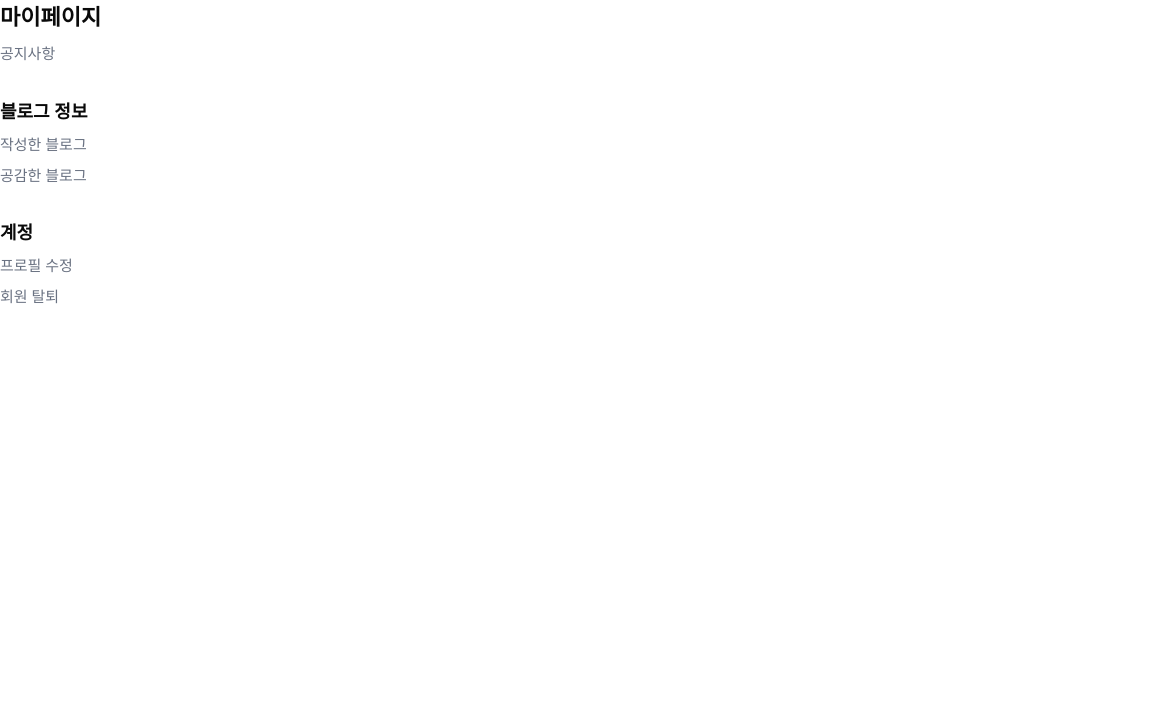
Test: 마이페이지 사이드바 › 회원탈퇴 모달 open 상태 › 모달 X 아이콘을 클릭하면 모달이 닫힌다.
Click the list item "회원 탈퇴" at coordinates (30, 296), box [0,286,59,306]
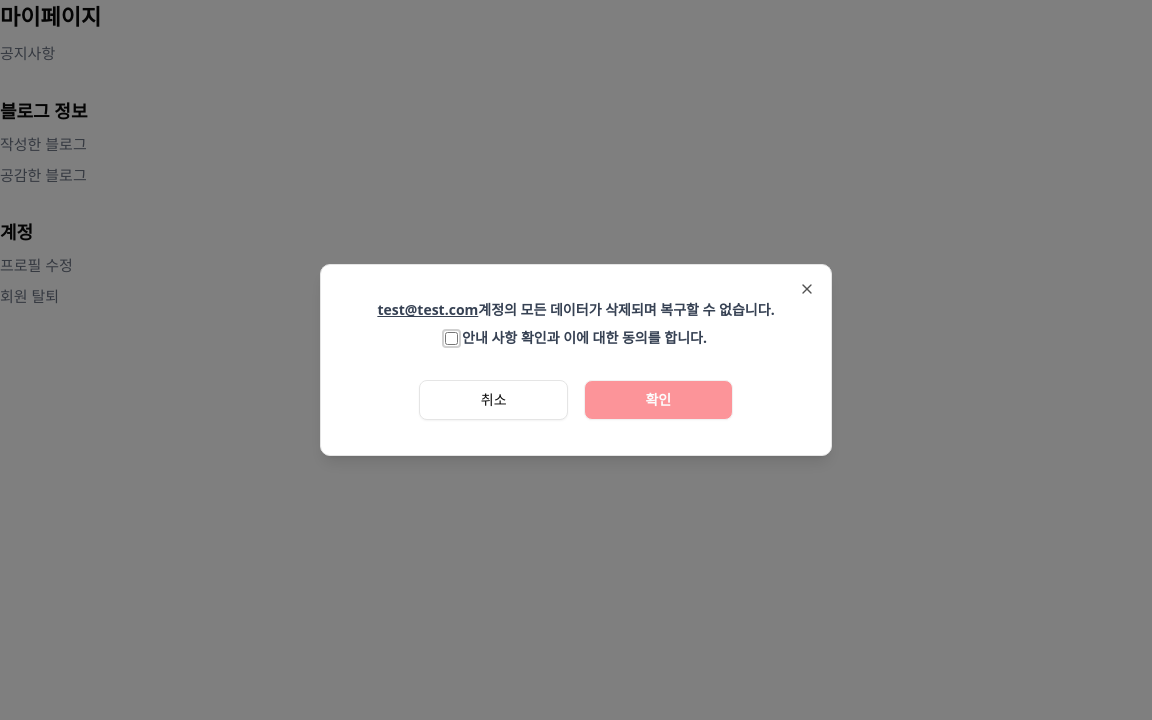
expect the button with test id "modal-close" is shown: met
Click the button with test id "modal-close" at coordinates (807, 289), box [799,281,815,297]
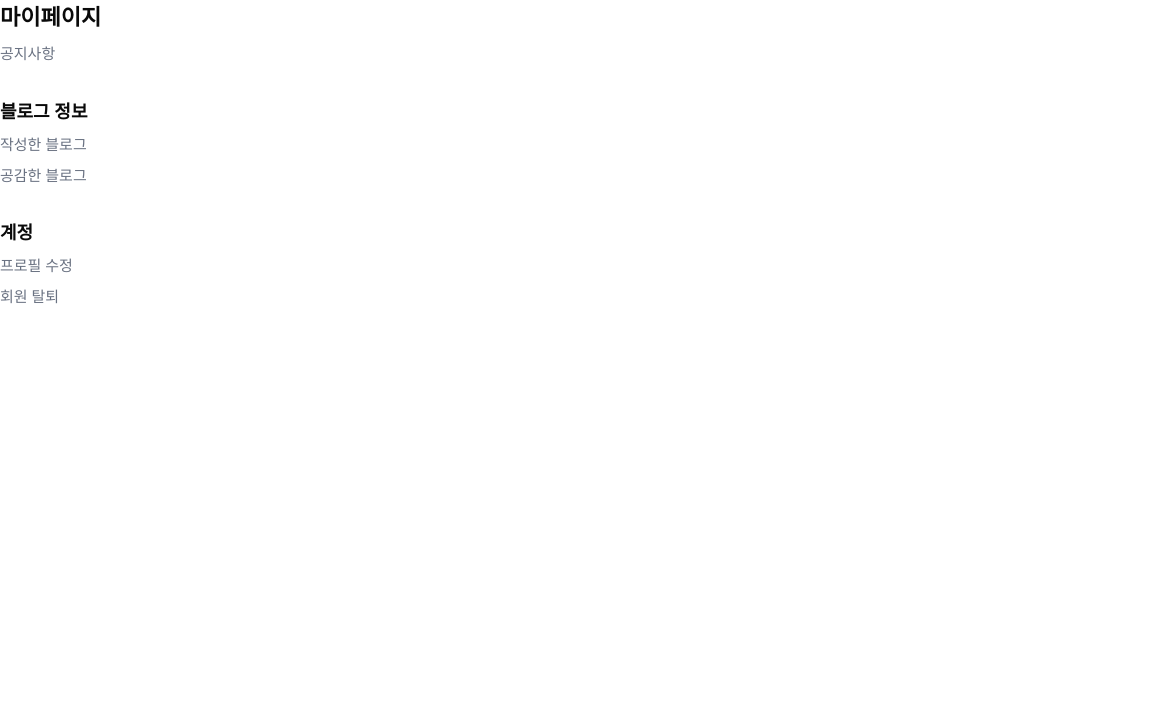
expect the button with test id "modal-close" is gone: met
expect the checkbox is gone: met
expect the text "test@test.com" is gone: met
